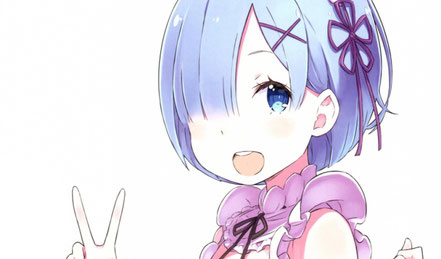rem: (155, 1, 389, 259)
